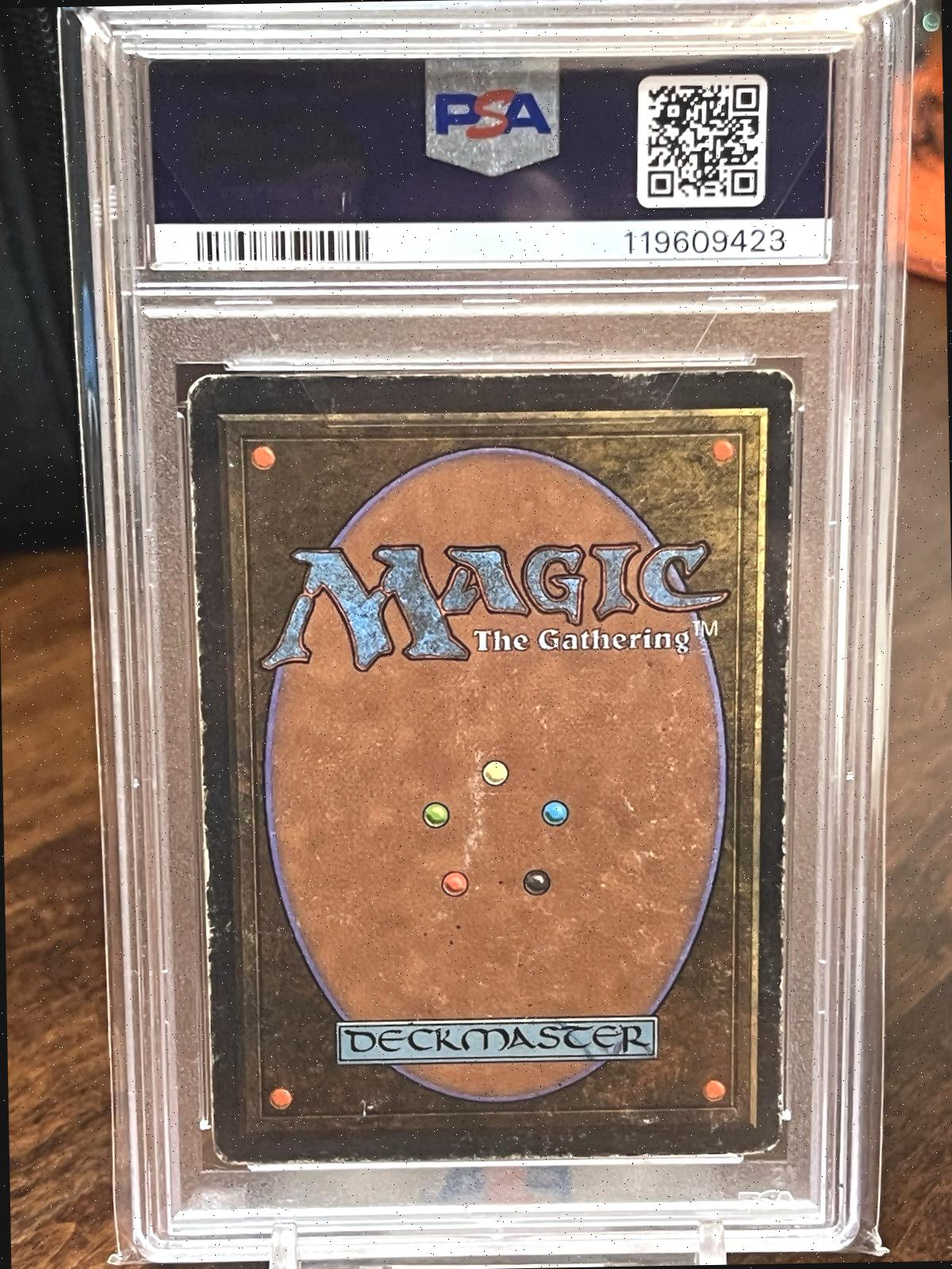card-2UtV: (187, 368, 796, 1165)
